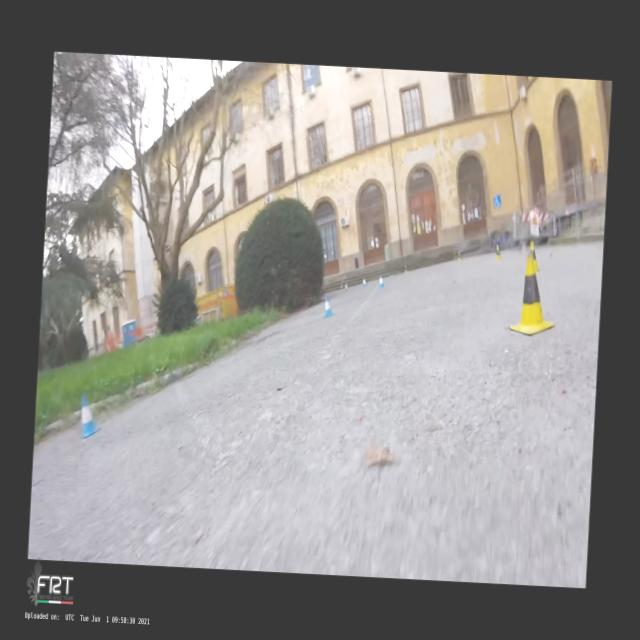blue_cone: (80, 393, 104, 439), (322, 297, 336, 319), (378, 276, 384, 288), (362, 278, 367, 288)
yellow_cone: (508, 254, 558, 338), (530, 241, 542, 273), (495, 245, 501, 261), (458, 252, 462, 262), (404, 266, 408, 272)
